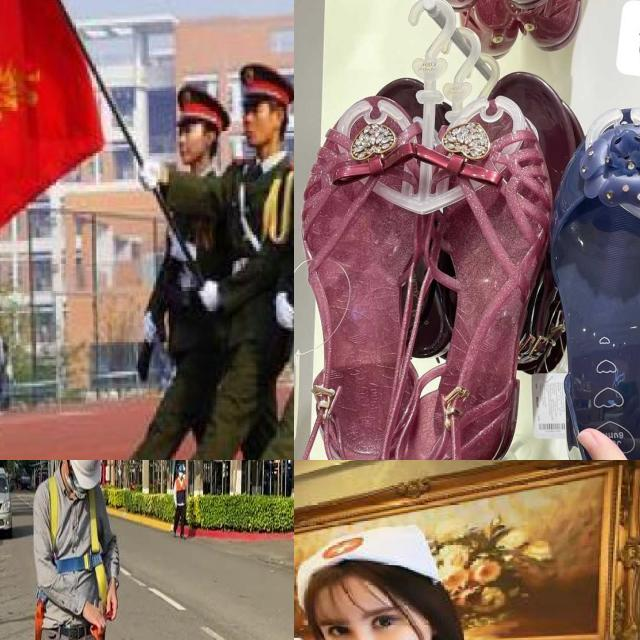Harness: (47, 479, 108, 606), (34, 597, 46, 640)
Sandals: (294, 49, 552, 460), (526, 89, 640, 460)
face_nomask: (319, 584, 439, 640), (238, 94, 275, 140), (170, 121, 206, 168)
hand_glove: (164, 228, 195, 261), (273, 286, 294, 328), (198, 276, 220, 309), (140, 310, 160, 342), (137, 160, 158, 186)
head_nohelmet: (294, 534, 451, 596)
person: (111, 86, 247, 460), (190, 60, 294, 460), (294, 522, 519, 640)
